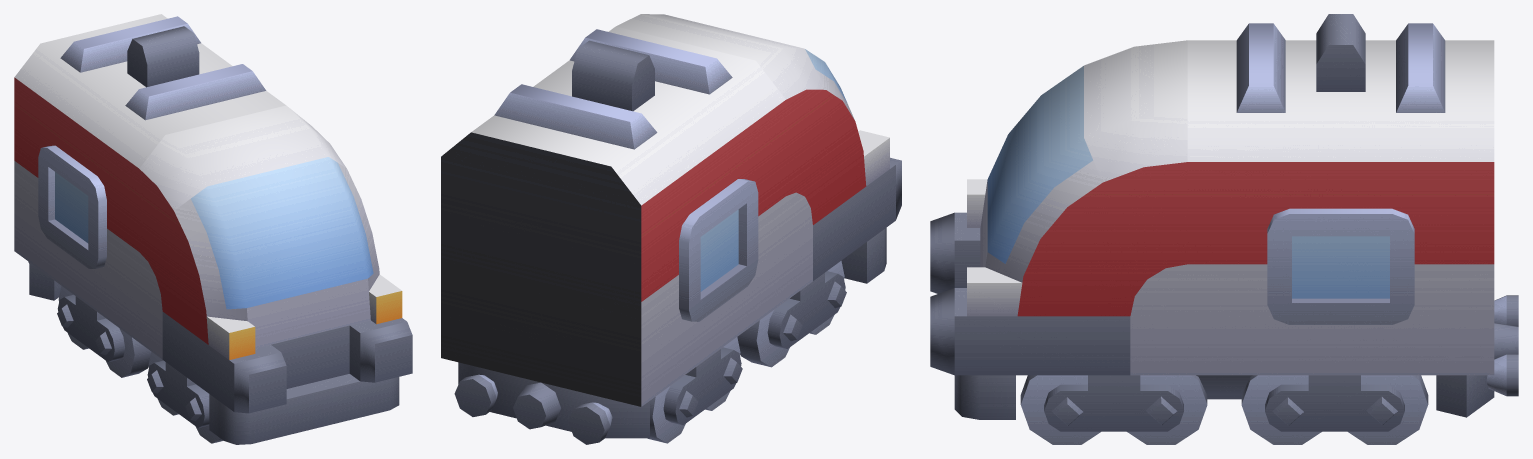
The model's file is Train Electric City A.glb.
3 renders of one model, left to right at view 1: azimuth 30°, elevation 25°; view 2: azimuth 150°, elevation 25°; view 3: azimuth 270°, elevation 25°, orthographic. The views are drawn at different scales.
Parts seen in each view (by area): view 1: train-electric-city-a, wheels-back, wheels-front; view 2: train-electric-city-a, wheels-front, wheels-back; view 3: train-electric-city-a, wheels-back, wheels-front.
Part boxes in pixels (x1,y1,x2,y2): train-electric-city-a: (14,14,412,444); wheels-back: (57,286,150,377); wheels-front: (147,352,223,443); train-electric-city-a: (441,14,901,444); wheels-front: (737,261,846,367); wheels-back: (647,337,742,443); train-electric-city-a: (930,14,1518,419); wheels-back: (1241,375,1428,444); wheels-front: (1020,375,1207,444).
Size of the model in its own units: 1.1 by 1.68 by 2.4.
1 material, 1 textured.
